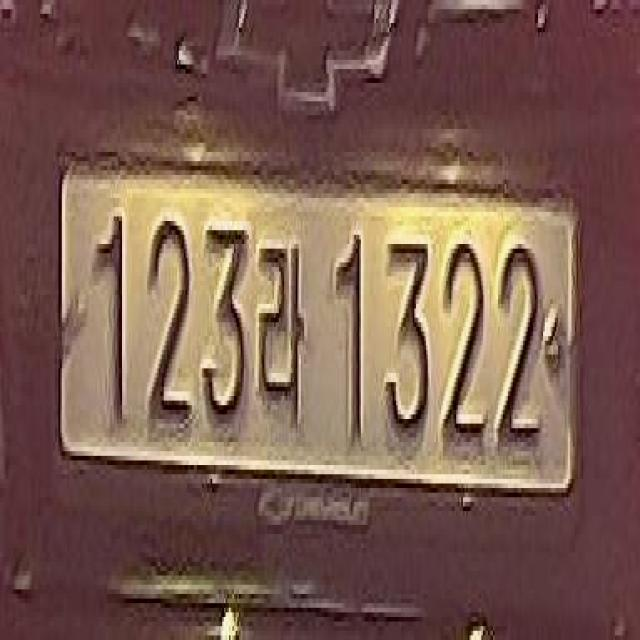illegal_plate: (53, 155, 580, 532)
